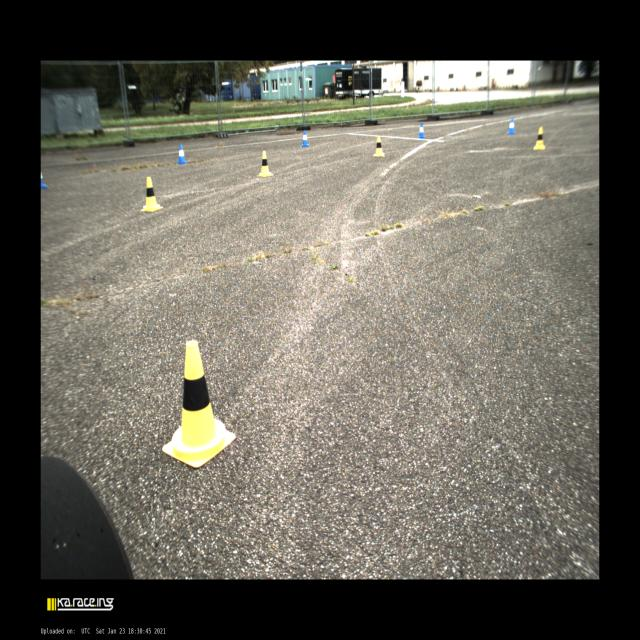blue_cone: (178, 144, 188, 164), (40, 172, 49, 190), (507, 117, 516, 134), (301, 130, 309, 147), (418, 122, 426, 137)
yellow_cone: (162, 341, 236, 467), (141, 177, 163, 211), (258, 151, 274, 177), (534, 126, 546, 150), (374, 136, 384, 156)
